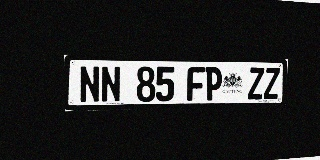5: (156, 66, 174, 102)
8: (136, 66, 155, 102)
F: (187, 67, 205, 101)
N: (79, 66, 100, 103), (101, 66, 121, 103)
P: (205, 67, 222, 101)
Z: (248, 67, 264, 100), (264, 68, 280, 99)
